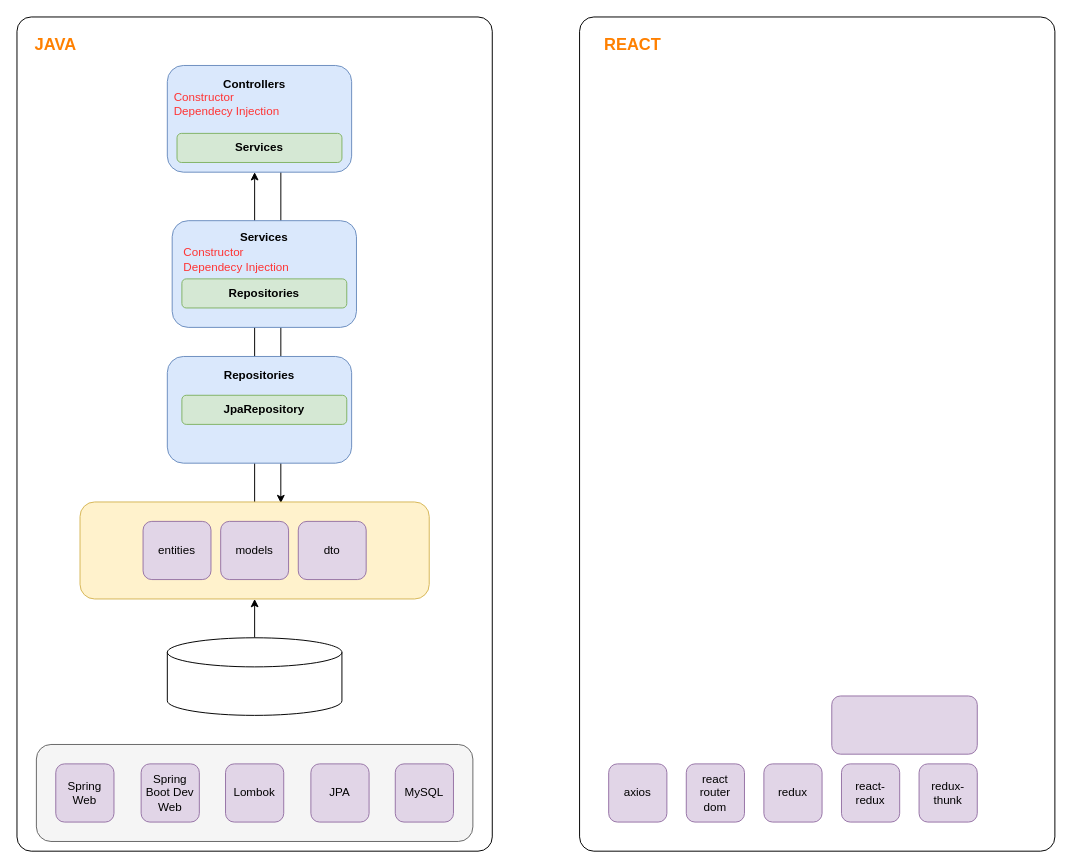
The diagram is 1072 pixels wide and 868 high, and some of its shapes have lost their labels. The shapes that lost their labels are listed below. From the top down, each one's box as (x1, y1, x2, y2) in pixels, then its label:
(166, 637, 342, 715): RDMS MySQL
(831, 695, 977, 754): redux-devtools-extension
